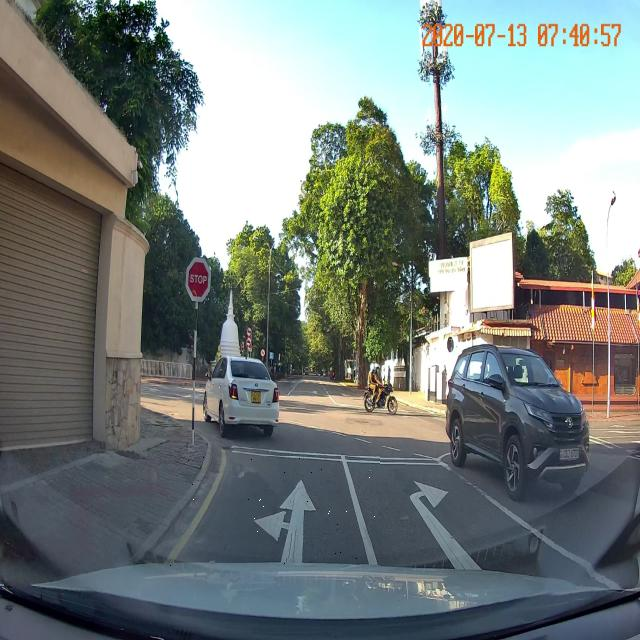forward_lft: (170, 456, 380, 566), (183, 488, 374, 535)
